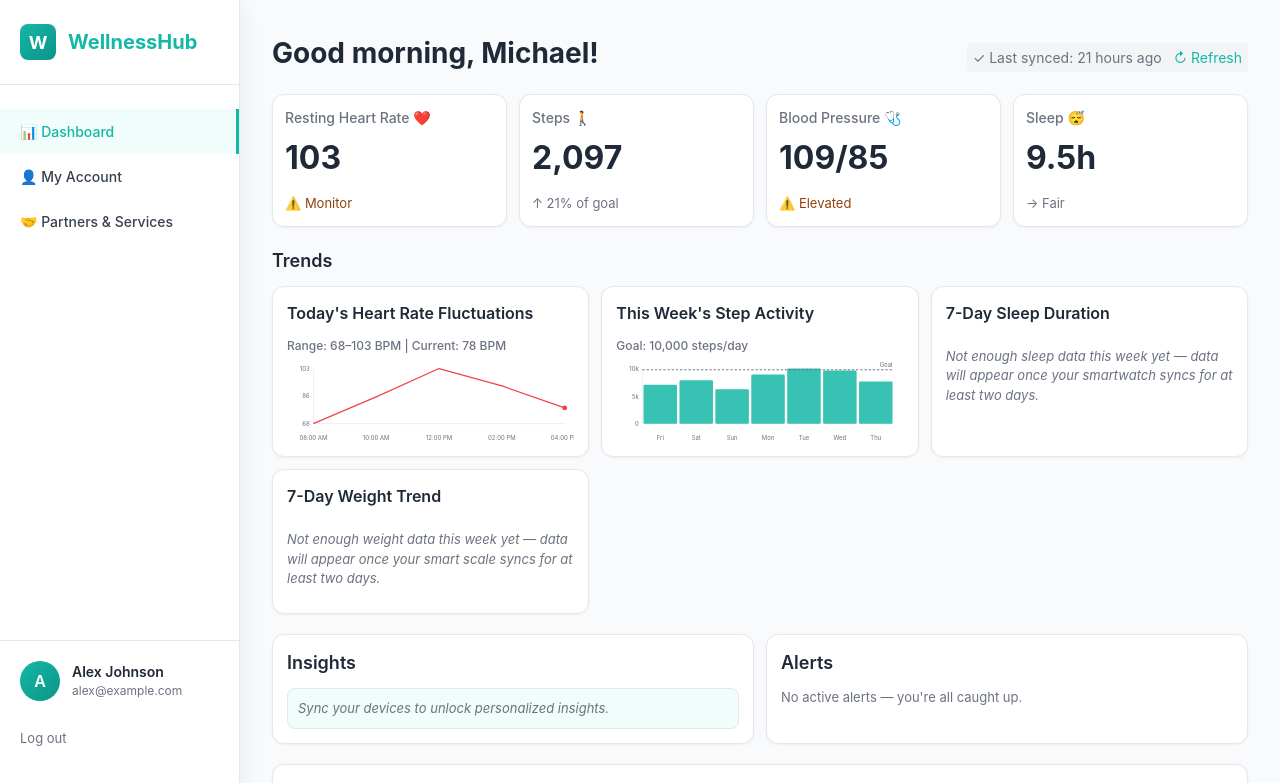
Scenario: after re-fetch failure, the greeting heading remains visible
Check: the heading "Good morning, Michael!" is shown, box x1=272 y1=32 x2=599 y2=74
Click the button with aria-label "Refresh dashboard". click: (1208, 58)
box: x1=1174 y1=49 x2=1242 y2=66
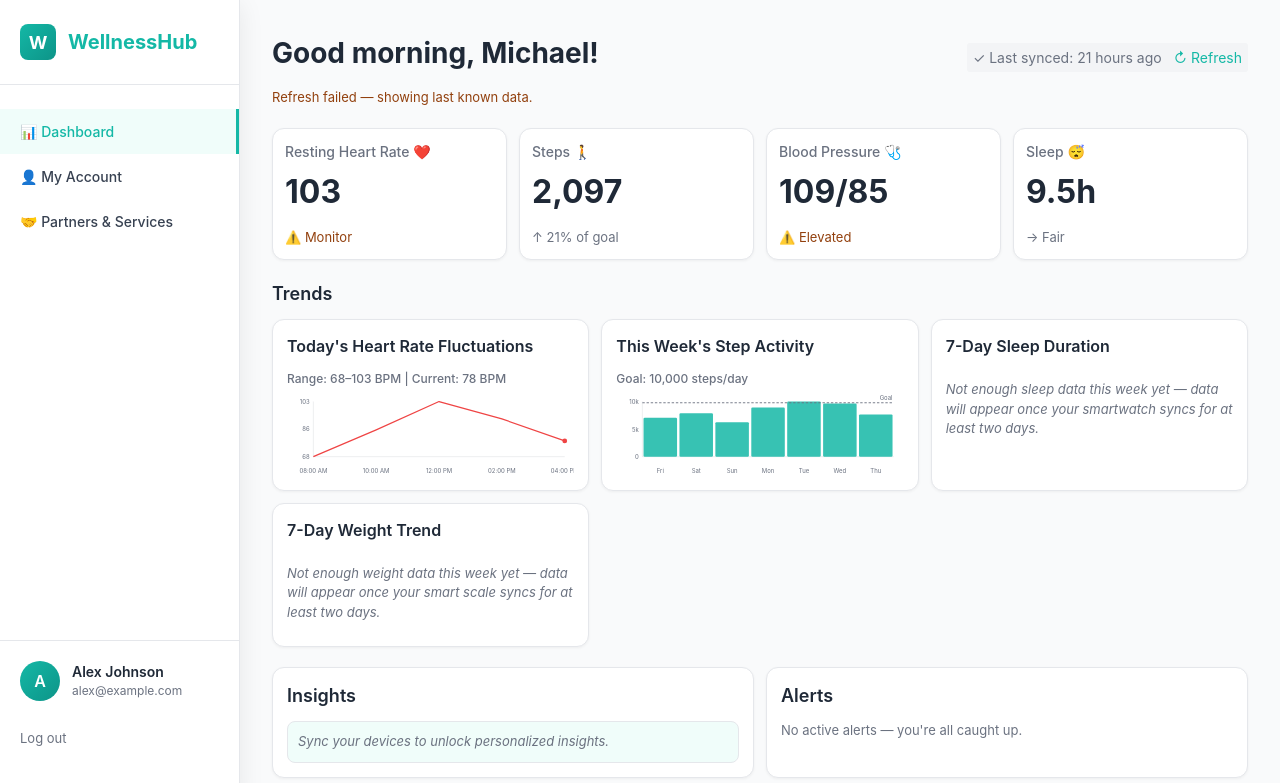
Check: the heading "Good morning, Michael!" is shown, box x1=272 y1=32 x2=599 y2=74
Check: the text "Refresh failed — showing last known data." is shown, box x1=272 y1=89 x2=532 y2=105
